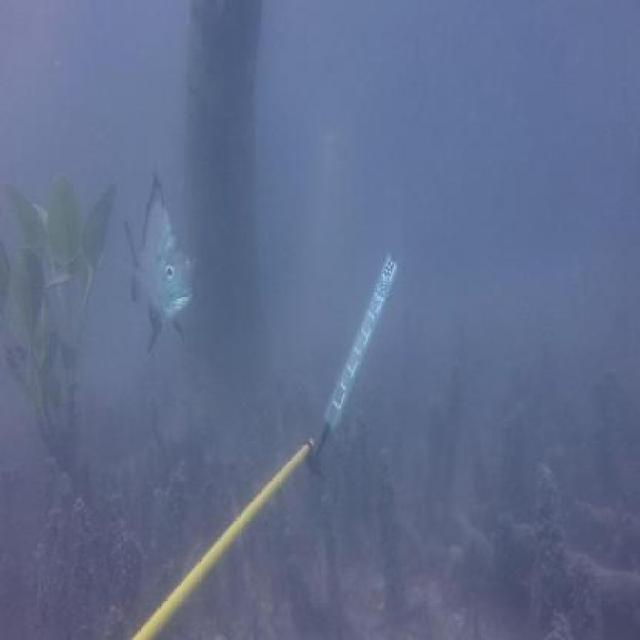acanthopagrus_palmaris: (120, 165, 202, 360)
